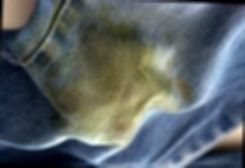earth: (69, 32, 177, 120)
